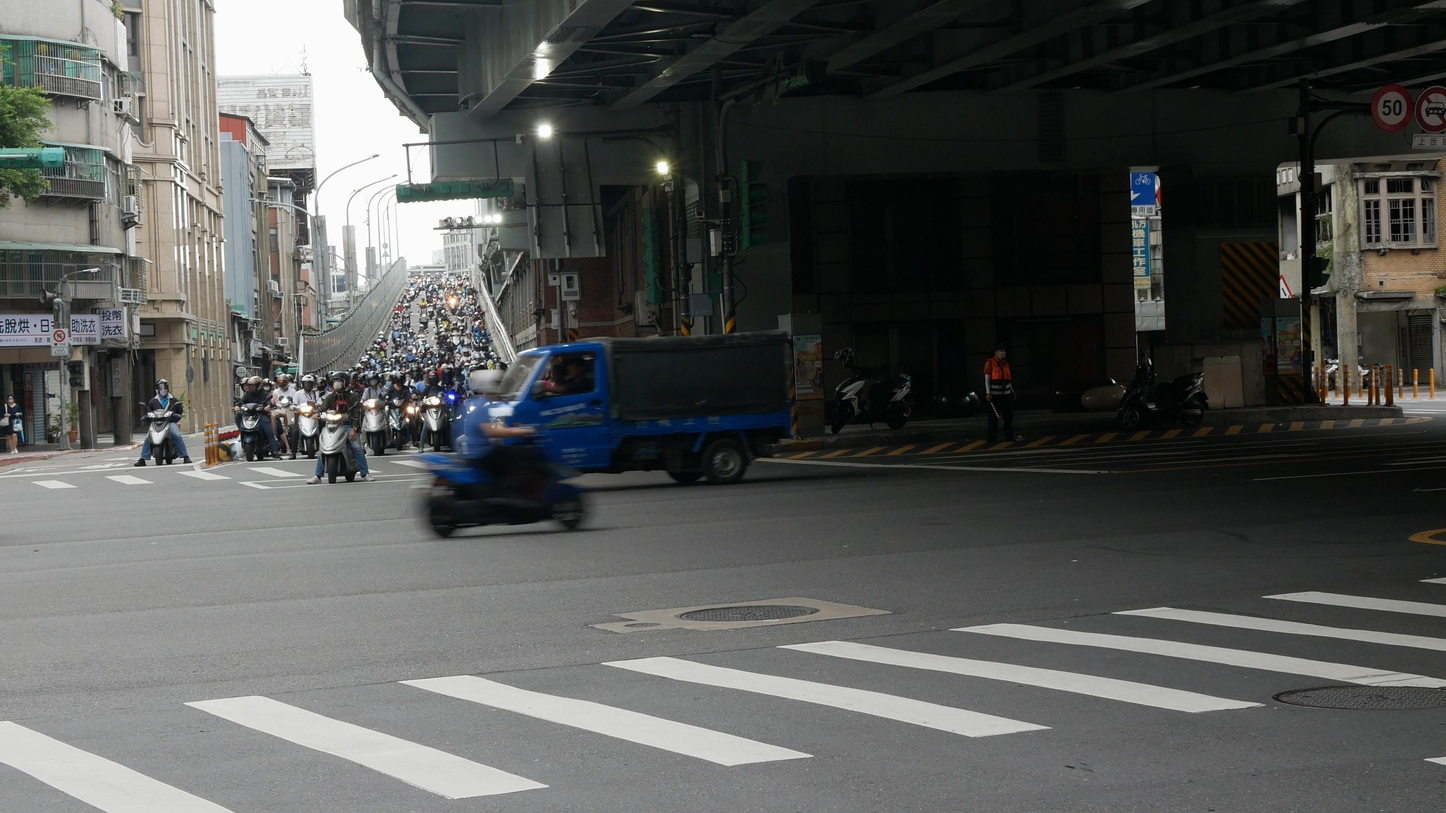driver: (414, 369, 585, 538), (306, 373, 374, 485), (134, 378, 193, 466), (231, 376, 282, 462), (353, 370, 394, 456), (414, 371, 455, 454), (383, 371, 425, 451), (287, 374, 325, 461)
helmet: (469, 369, 507, 395), (331, 373, 350, 392), (154, 378, 170, 399), (247, 376, 264, 393), (365, 371, 381, 389), (441, 366, 455, 386), (301, 375, 315, 392), (276, 374, 289, 392), (427, 370, 440, 387), (394, 372, 407, 386), (240, 377, 250, 392), (262, 378, 272, 392), (348, 373, 359, 385)
